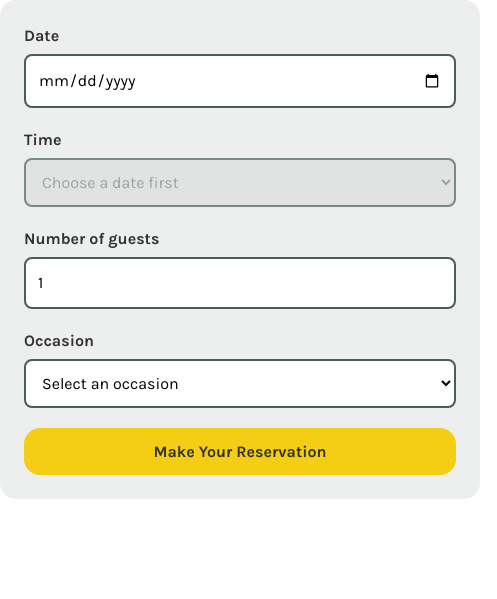
Test: BookingForm – validation & error messages › shows an error for each empty field and does not submit
Click the button "Make Your Reservation".
click(240, 452)  # box [24,428,456,475]
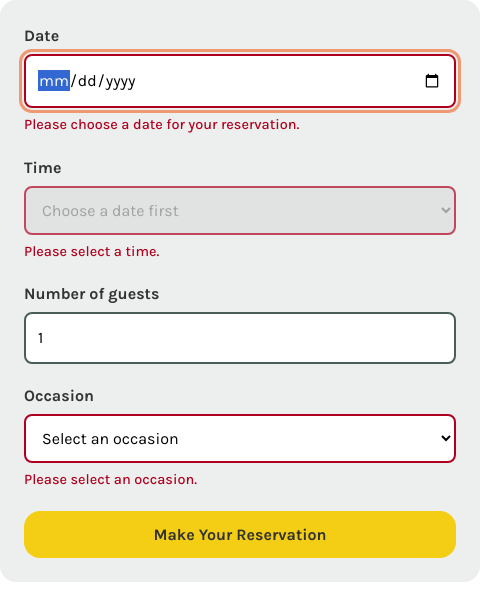
Expected: the text "Please choose a date for your reservation." is shown, [24,116,299,133]
Expected: the text "Please select a time." is shown, [24,243,159,260]
Expected: the text "Please select an occasion." is shown, [24,471,197,488]
